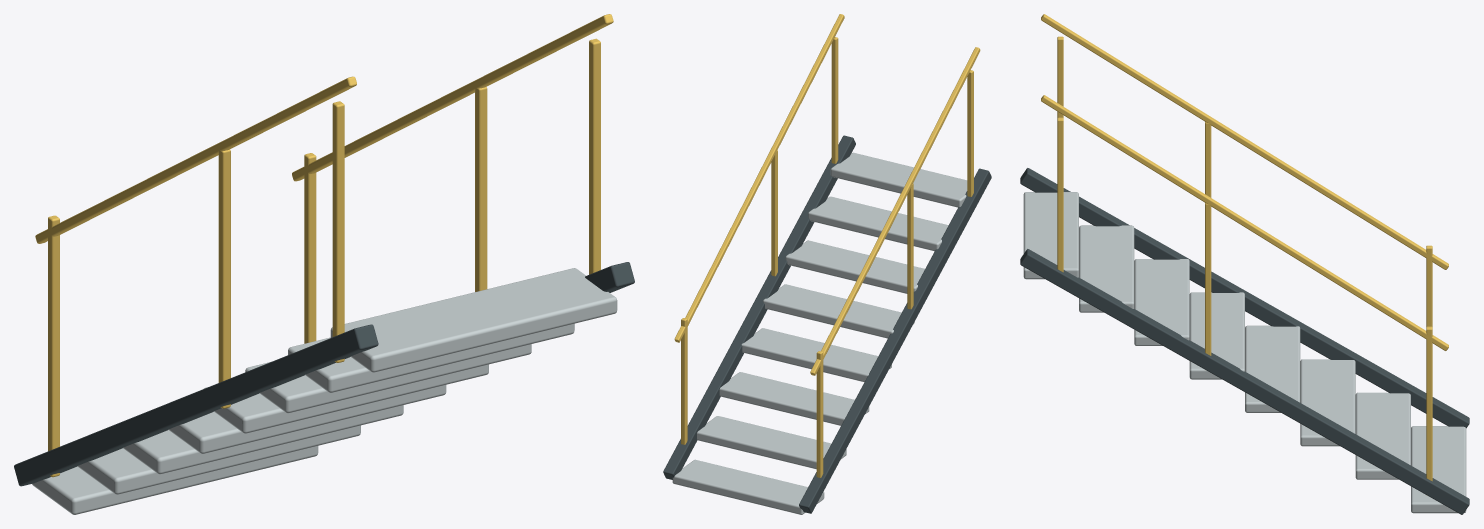
File: hydroelectric-dam-infiltration-service-stair-f45d1207__29367.glb
3 renders of one model, left to right at view 1: azimuth 30°, elevation 25°; view 2: azimuth 150°, elevation 25°; view 3: azimuth 270°, elevation 25°, orthographic. The views are drawn at different scales.
Parts seen in each view (by area): view 1: service-stair; view 2: service-stair; view 3: service-stair.
Boxes of the visible parts, box(x1,y1,x2,y2) form: service-stair: box(14, 14, 634, 514); service-stair: box(663, 14, 991, 514); service-stair: box(1020, 14, 1469, 514).
Bounding box in the file's own units: 1.12 × 2.51 × 2.44.
